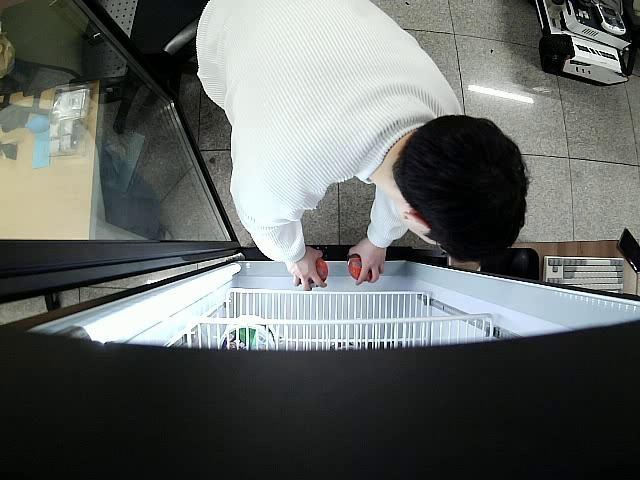02_shinRamen_S: (300, 257, 328, 288), (347, 255, 378, 282)
